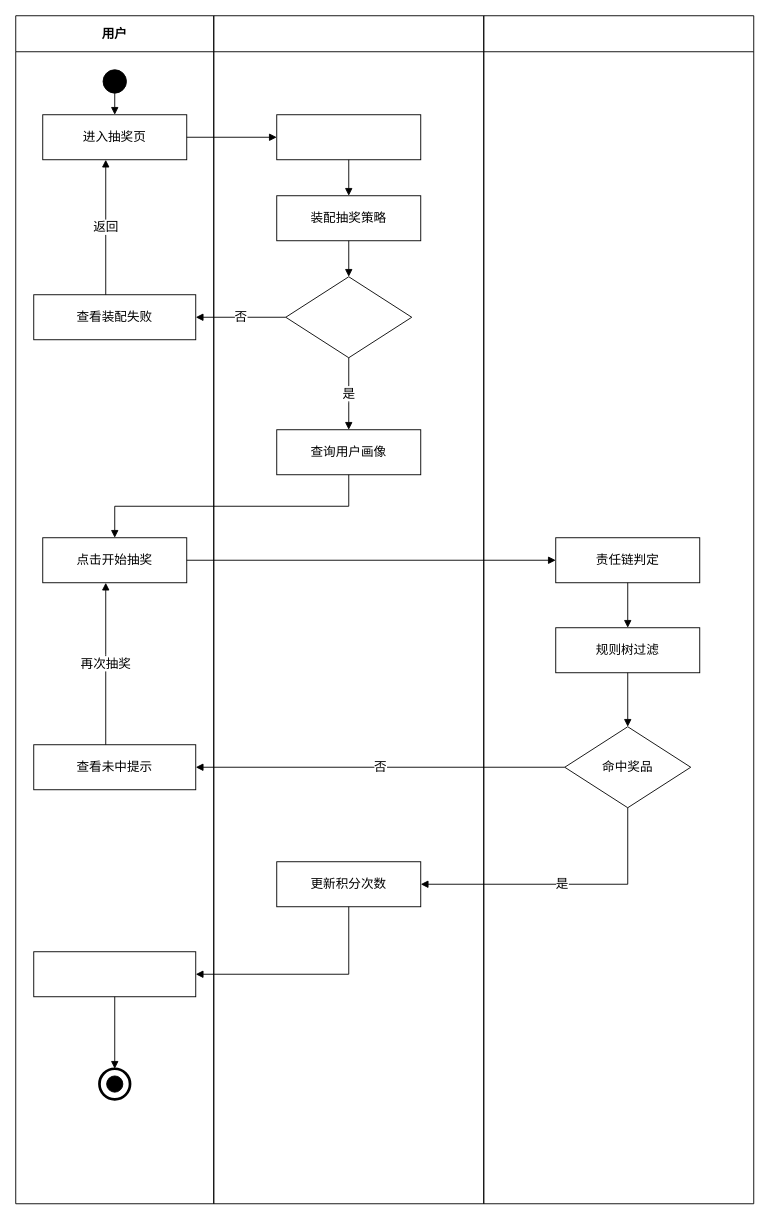
Some shapes in this 770 by 1220 pixel diagram are drawn without their labels. The box of each missing label's shape, as (x1, y1, x2, y2) in pixels:
抽奖应用: (213, 15, 484, 1204)
查看中奖结果: (33, 951, 196, 997)
查询当前策略: (276, 114, 421, 160)
装配成功: (285, 276, 412, 358)
规则服务: (483, 15, 754, 1204)
